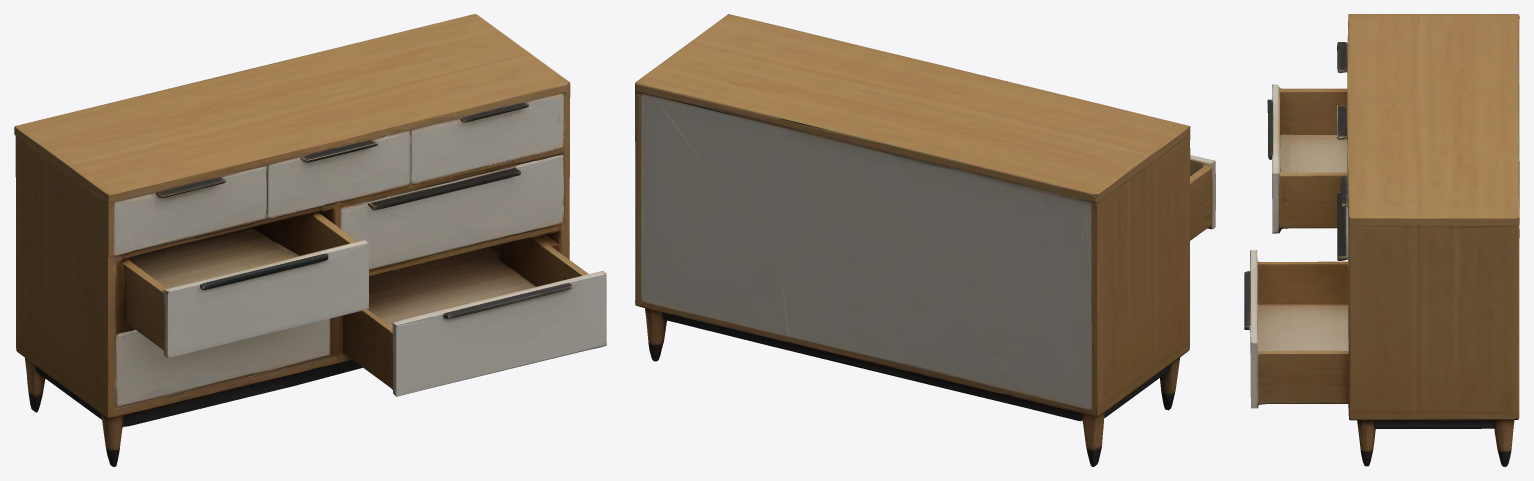
File: dresser_light_open.glb
3 views of the same model, side by side, from view 1: azimuth 30°, elevation 25°; view 2: azimuth 150°, elevation 25°; view 3: azimuth 270°, elevation 25° (orthographic). The views are drawn at different scales.
Visible parts, largest first — view 1: geometry_0; view 2: geometry_0; view 3: geometry_0.
Boxes of the visible parts, box(x1,y1,x2,y2) form: geometry_0: box(14, 14, 606, 466); geometry_0: box(635, 14, 1215, 466); geometry_0: box(1244, 14, 1519, 466).
Bounding box in the file's own units: 0.9998 × 0.5816 × 0.5703.
1 material, 1 textured.
